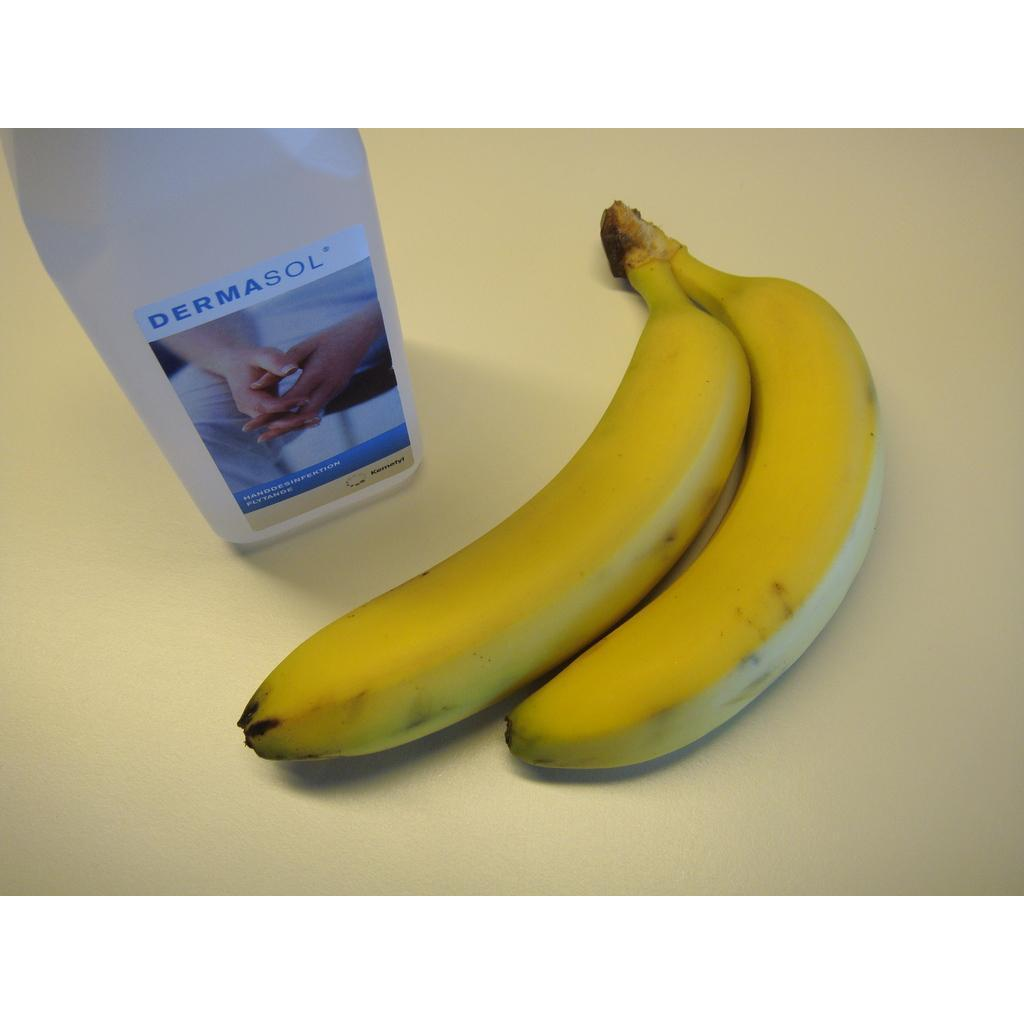banana: (237, 204, 757, 765), (503, 207, 886, 782)
